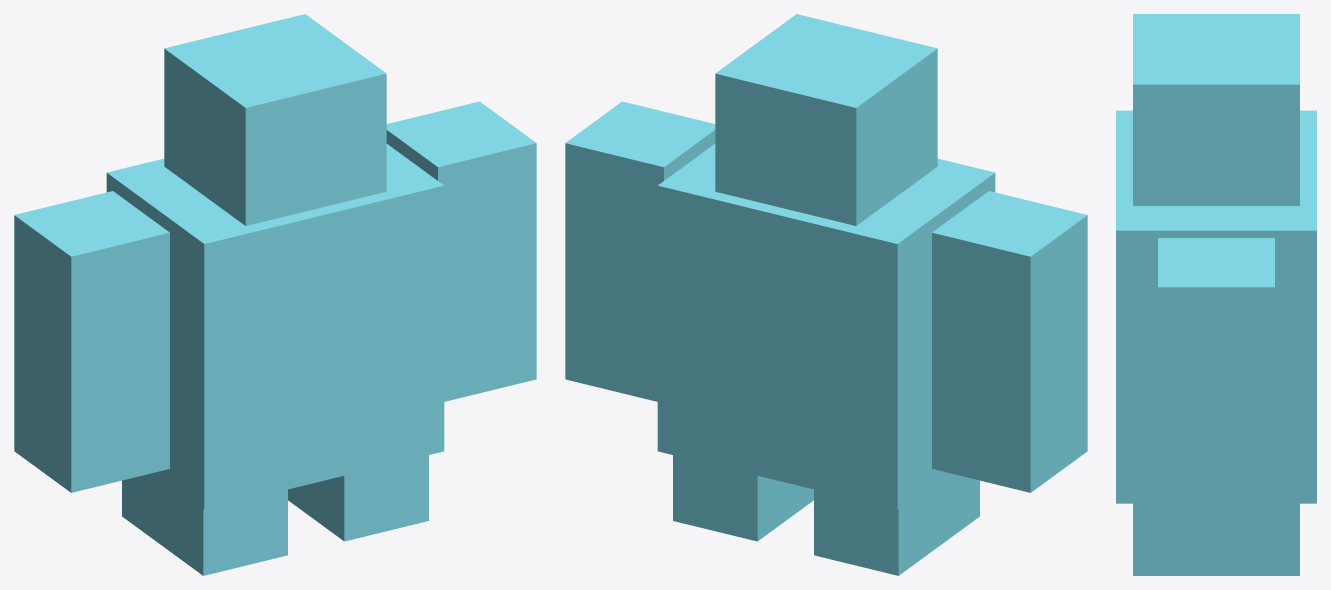
File: heavy.gltf
3 views of the same model, side by side, from view 1: azimuth 30°, elevation 25°; view 2: azimuth 150°, elevation 25°; view 3: azimuth 270°, elevation 25° (orthographic). The views are drawn at different scales.
Parts seen in each view (by area): view 1: heavy; view 2: heavy; view 3: heavy.
Part boxes in pixels (<box>): heavy: <box>14,14,536,575</box>; heavy: <box>565,14,1087,575</box>; heavy: <box>1116,14,1316,575</box>.
Bounding box in the file's own units: 1.65 × 1.55 × 0.6.
